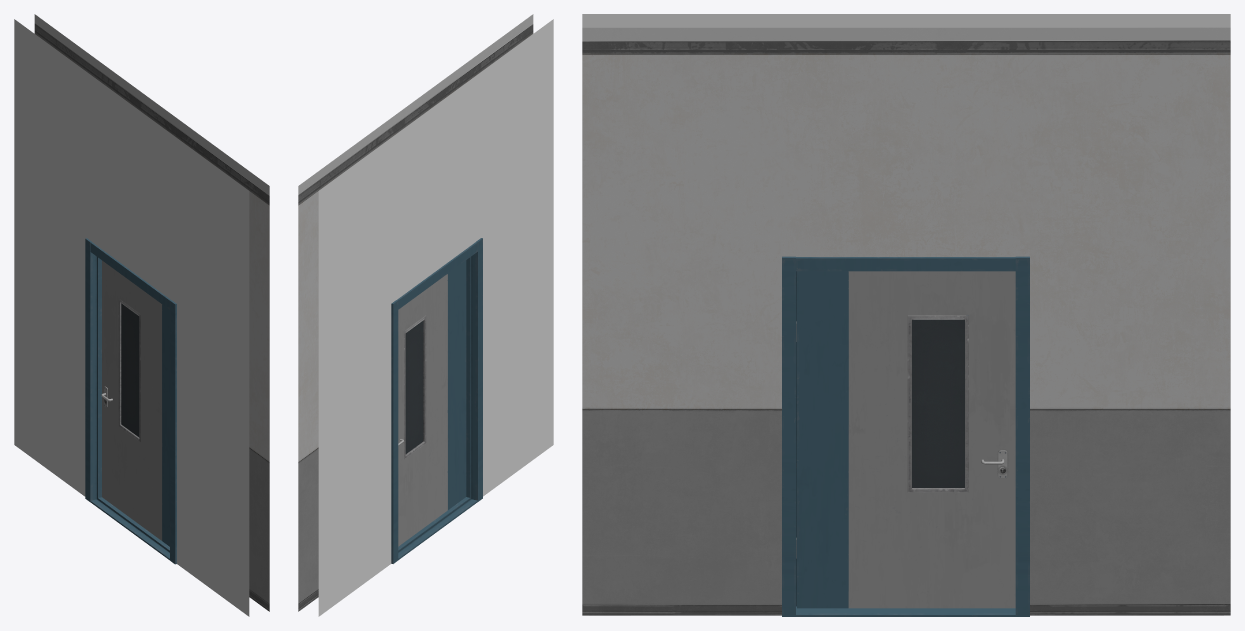
Rendered from HH_Hospital_PartitionWall_Door_01.fbx.
The picture shows the model from 3 angles, left to right: view 1: azimuth 30°, elevation 25°; view 2: azimuth 150°, elevation 25°; view 3: azimuth 270°, elevation 25°; orthographic projection. The views are drawn at different scales.
Visible parts, largest first — view 1: HH_Hospital_PartitionWall_Door_01_LOD0, HH_Interior_Doors_01_LOD0; view 2: HH_Hospital_PartitionWall_Door_01_LOD0, HH_Interior_Doors_01_LOD0; view 3: HH_Hospital_PartitionWall_Door_01_LOD0, HH_Interior_Doors_01_LOD0.
Part boxes in pixels (bbox=[...]): HH_Hospital_PartitionWall_Door_01_LOD0: bbox=[14, 14, 269, 616]; HH_Interior_Doors_01_LOD0: bbox=[101, 260, 169, 546]; HH_Hospital_PartitionWall_Door_01_LOD0: bbox=[298, 14, 553, 616]; HH_Interior_Doors_01_LOD0: bbox=[398, 260, 466, 546]; HH_Hospital_PartitionWall_Door_01_LOD0: bbox=[582, 14, 1230, 616]; HH_Interior_Doors_01_LOD0: bbox=[797, 271, 1015, 608].
Size of what is drawn, in the model's own units: 23.9 by 400 by 400.
